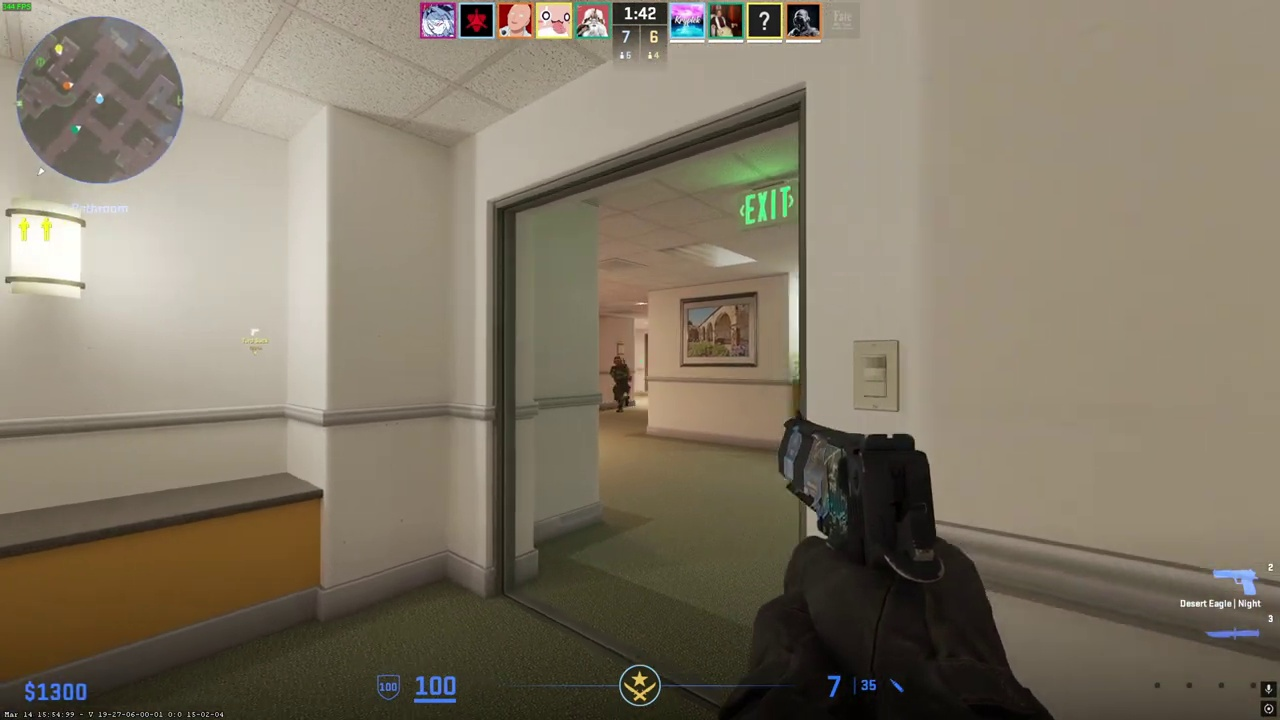CT: (608, 355, 633, 413)
